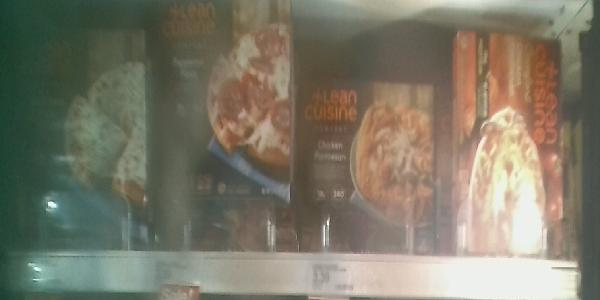pizza1: (153, 1, 299, 248), (3, 12, 152, 250), (449, 30, 563, 257), (299, 80, 438, 254)
